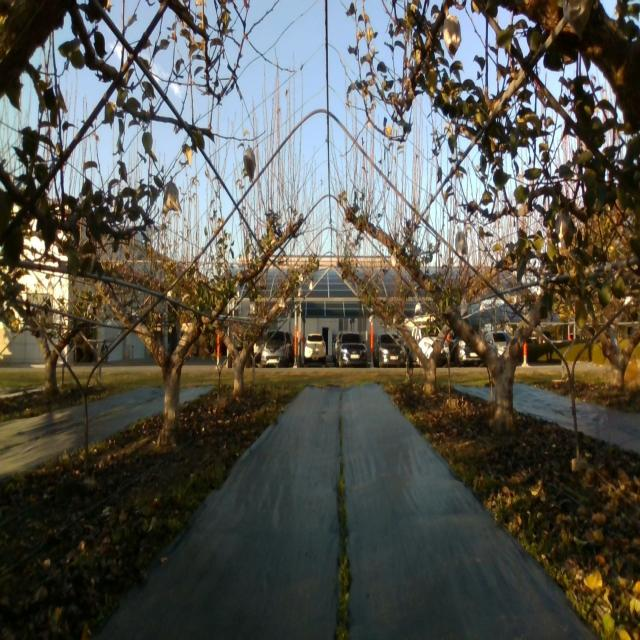pearbags: (555, 210, 574, 250), (444, 15, 461, 59), (162, 180, 182, 215), (243, 148, 256, 183), (456, 232, 468, 255)
